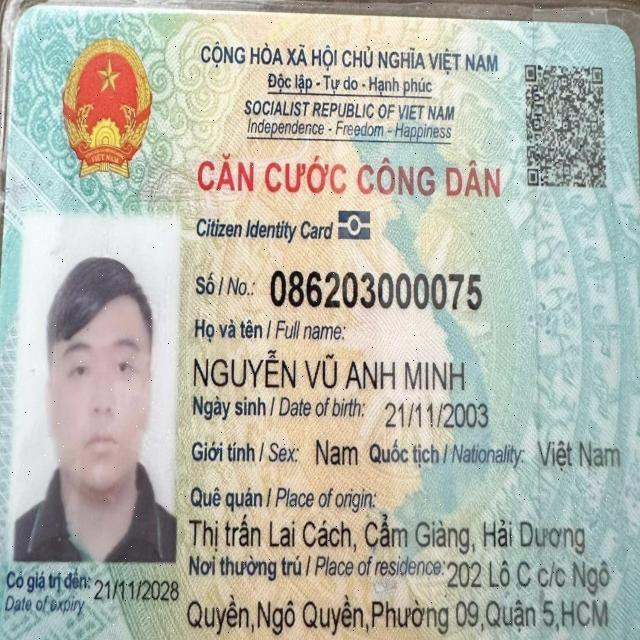current_place: (182, 591, 613, 640), (445, 555, 614, 597)
dob: (382, 396, 493, 432)
expire_date: (90, 573, 182, 609)
gender: (313, 434, 361, 473)
id: (267, 263, 488, 317)
name: (188, 345, 469, 396)
nationality: (533, 434, 625, 476)
origin_place: (185, 510, 591, 557)
qr: (522, 57, 615, 199)
